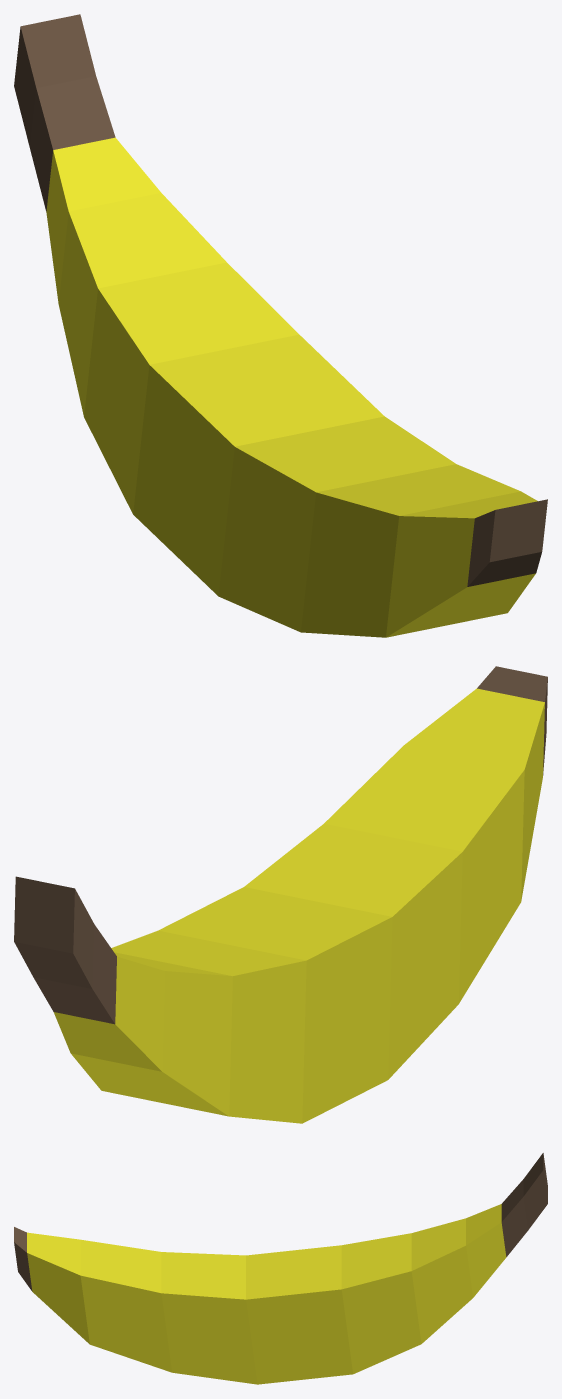
Rendered from Banana.fbx.
3 views of the same model, one above another, from view 1: azimuth 30°, elevation 25°; view 2: azimuth 150°, elevation 25°; view 3: azimuth 270°, elevation 25° (orthographic). The views are drawn at different scales.
Visible parts, largest first — view 1: Cube; view 2: Cube; view 3: Cube.
Boxes of the visible parts, x1,y1,x2,y2 form: Cube: [14, 14, 547, 637]; Cube: [14, 666, 547, 1123]; Cube: [14, 1153, 547, 1384].
Size of the model in its own units: 10.44 by 23.79 by 55.43.
